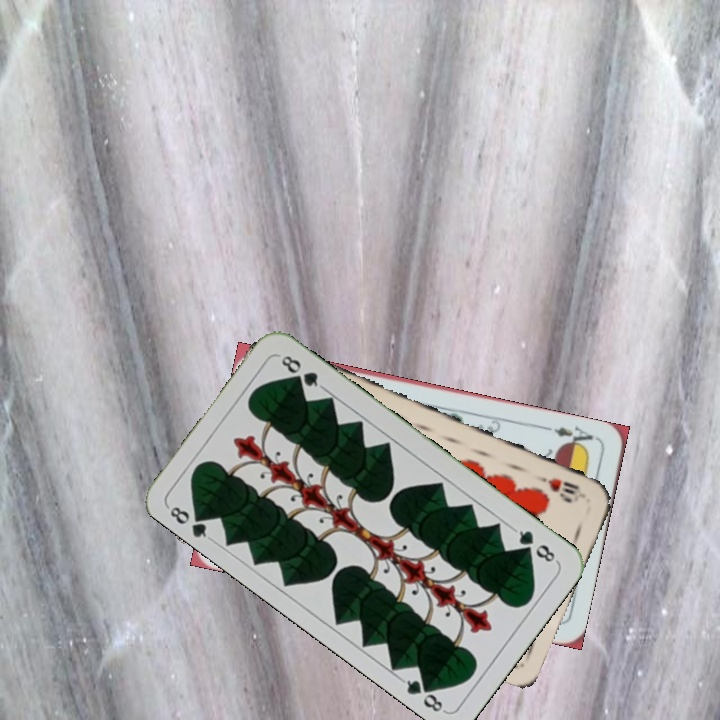EA: (541, 422, 600, 452)
G8: (164, 502, 214, 544), (509, 524, 560, 565)
H10: (532, 471, 588, 504)
